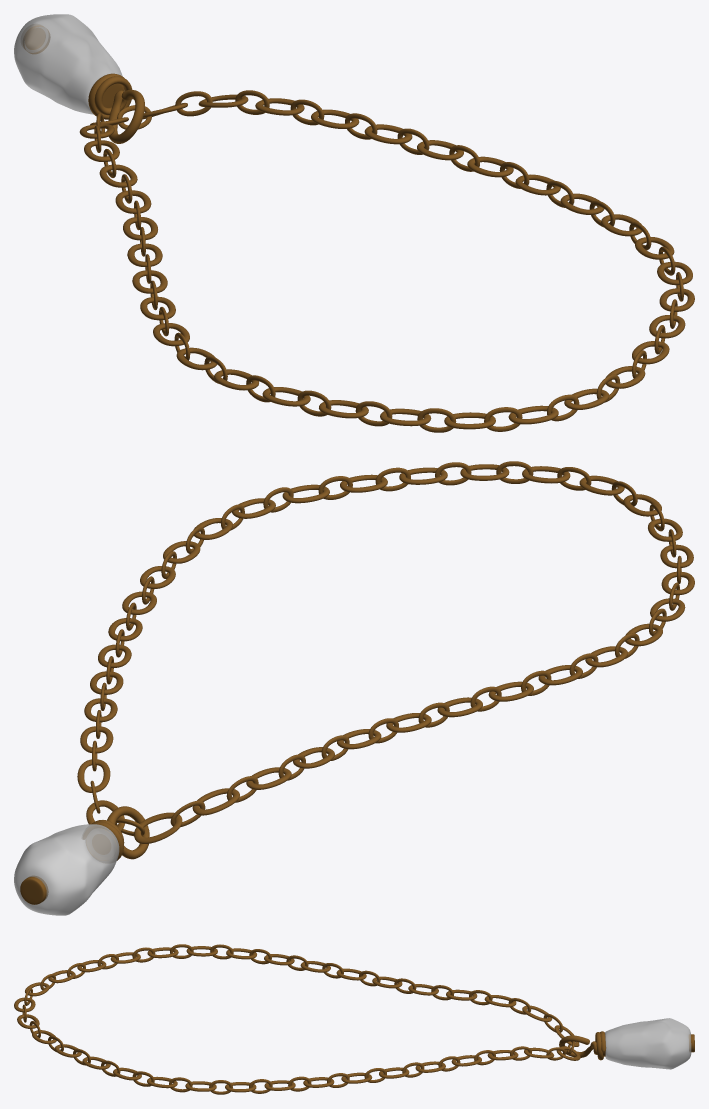
3 renders of one model, top to bottom at view 1: azimuth 30°, elevation 25°; view 2: azimuth 150°, elevation 25°; view 3: azimuth 270°, elevation 25°, orthographic. The views are drawn at different scales.
Visible parts, largest first — view 1: necklace_silver, necklace_stone; view 2: necklace_silver, necklace_stone; view 3: necklace_silver, necklace_stone.
Part boxes in pixels (box(x1,y1,x2,y2)): necklace_silver: box(22, 25, 694, 432); necklace_stone: box(14, 14, 122, 114); necklace_silver: box(20, 461, 694, 904); necklace_stone: box(14, 824, 119, 915); necklace_silver: box(14, 944, 694, 1094); necklace_stone: box(605, 1018, 691, 1069).
Size of the model in its own units: 6.44 by 1.14 by 12.84.
